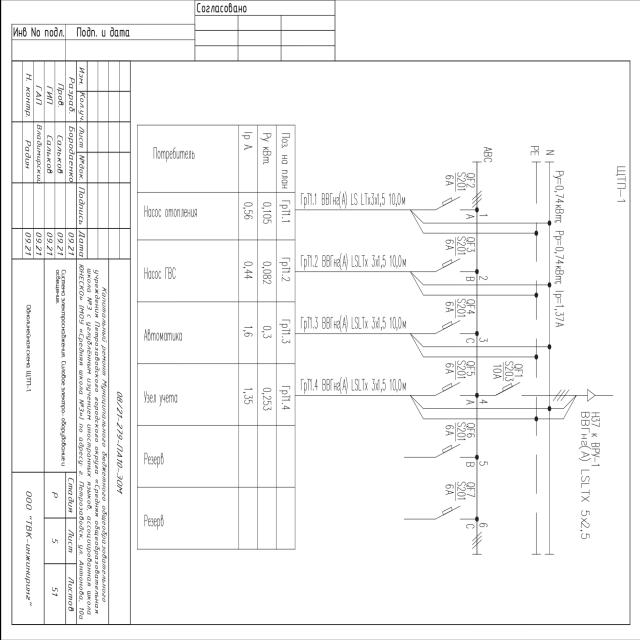-: (442, 296, 467, 320), (442, 170, 467, 194), (442, 358, 467, 382), (442, 232, 467, 256), (442, 478, 466, 502), (442, 422, 466, 446), (492, 360, 514, 384)
QF: (493, 381, 569, 404), (434, 380, 463, 400), (434, 317, 464, 336), (434, 443, 464, 462), (433, 257, 462, 276), (435, 194, 464, 213), (434, 506, 463, 524)
